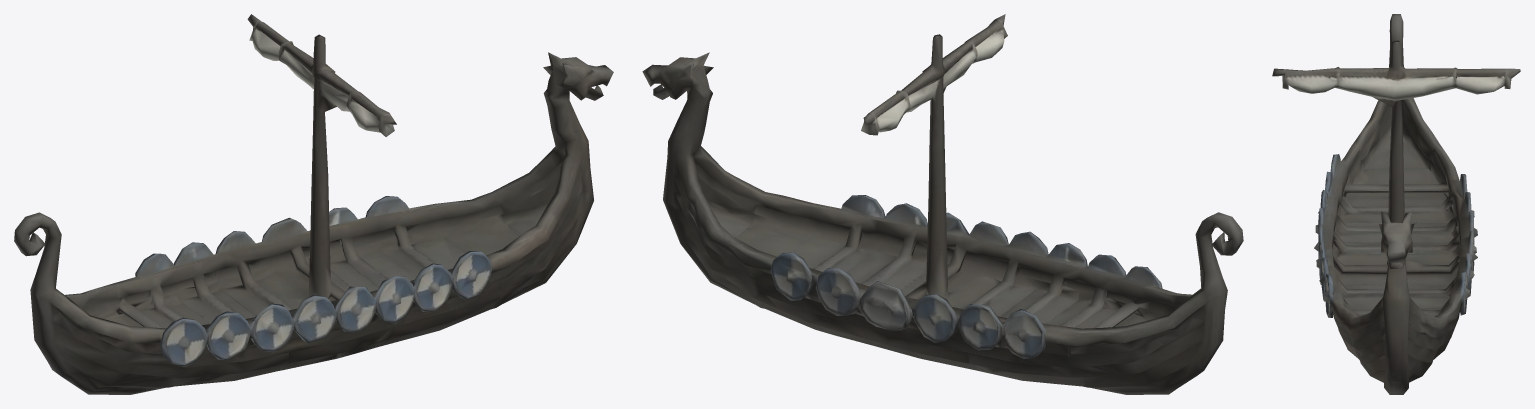
The model's file is longship.glb.
3 views of the same model, side by side, from view 1: azimuth 30°, elevation 25°; view 2: azimuth 150°, elevation 25°; view 3: azimuth 270°, elevation 25° (orthographic). The views are drawn at different scales.
Visible parts, largest first — view 1: tripo_node_01c852ba-2863-427e-95f2-aea8173fa03a; view 2: tripo_node_01c852ba-2863-427e-95f2-aea8173fa03a; view 3: tripo_node_01c852ba-2863-427e-95f2-aea8173fa03a.
Boxes of the visible parts, x1=… form: tripo_node_01c852ba-2863-427e-95f2-aea8173fa03a: x1=14, y1=14, x2=613, y2=394; tripo_node_01c852ba-2863-427e-95f2-aea8173fa03a: x1=642, y1=14, x2=1243, y2=394; tripo_node_01c852ba-2863-427e-95f2-aea8173fa03a: x1=1272, y1=14, x2=1520, y2=394.
Size of the model in its own units: 1 by 0.5004 by 0.4172.
Materials: 1 (1 with a texture image).
